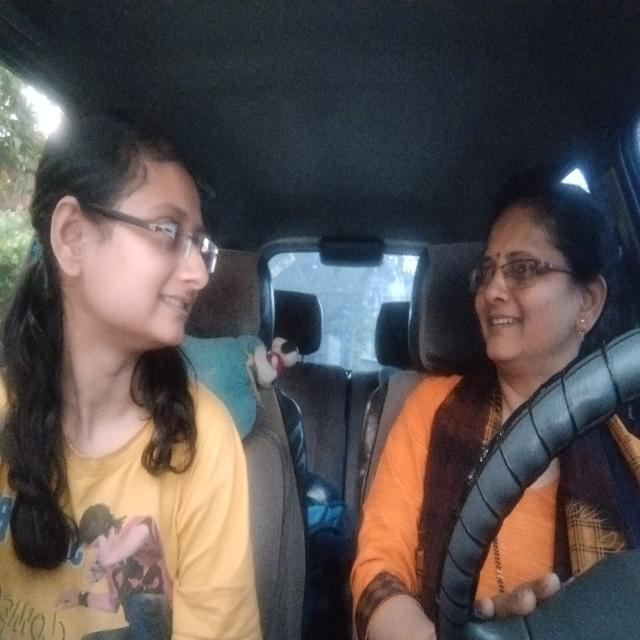LeftRight: (476, 204, 592, 363)
talking: (160, 288, 200, 324), (481, 314, 526, 337)
